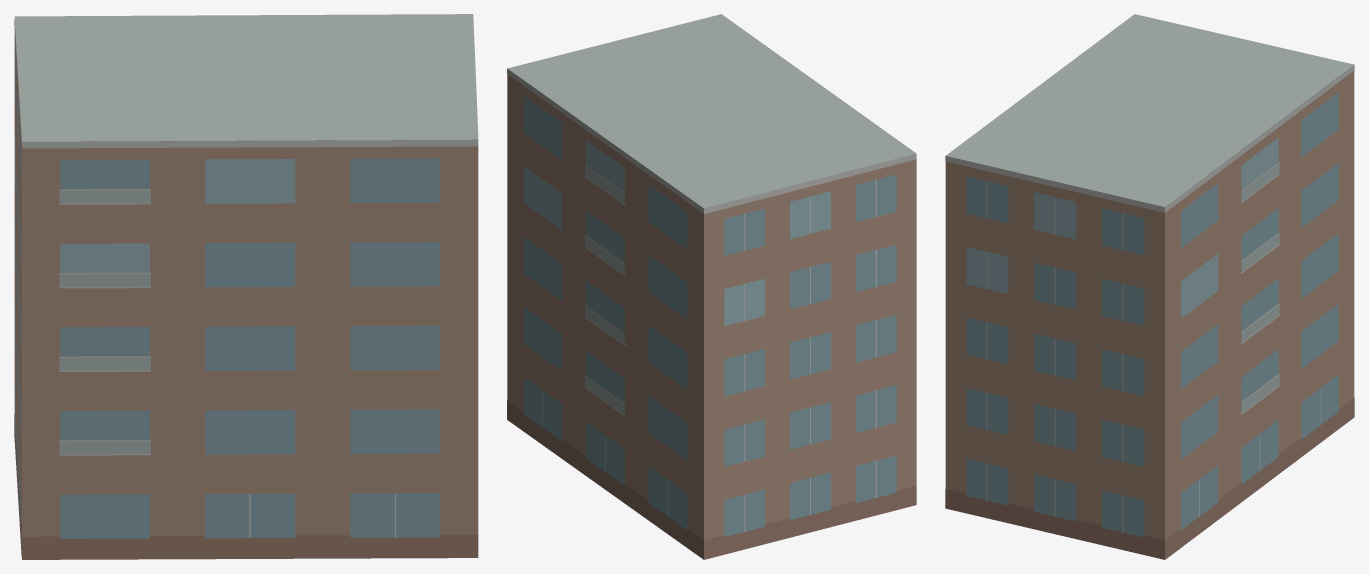
The model's file is survey-upis-32847873.glb.
3 renders of one model, left to right at view 1: azimuth 30°, elevation 25°; view 2: azimuth 150°, elevation 25°; view 3: azimuth 270°, elevation 25°, orthographic. The views are drawn at different scales.
Visible parts, largest first — view 1: survey-upis-32847873.tmp; view 2: survey-upis-32847873.tmp; view 3: survey-upis-32847873.tmp.
Part boxes in pixels (box(x1,y1,x2,y2)): survey-upis-32847873.tmp: box(14, 14, 478, 559); survey-upis-32847873.tmp: box(507, 14, 916, 559); survey-upis-32847873.tmp: box(945, 14, 1354, 559).
Size of the model in its own units: 17.86 by 15.2 by 15.98.
